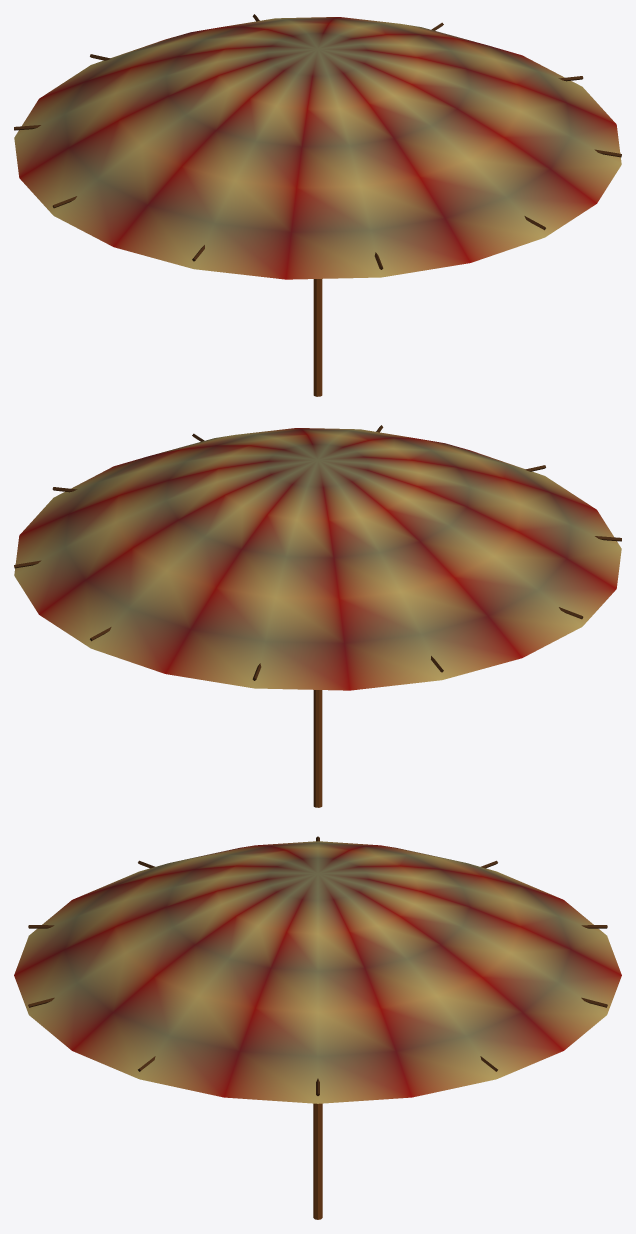
The model's file is hz-umbrella-oilpaper.glb.
3 renders of one model, top to bottom at view 1: azimuth 30°, elevation 25°; view 2: azimuth 150°, elevation 25°; view 3: azimuth 270°, elevation 25°, orthographic.
Visible parts, largest first — view 1: canopy__paper, shaft__bamboo, ribs__bamboo; view 2: canopy__paper, shaft__bamboo, ribs__bamboo; view 3: canopy__paper, shaft__bamboo, ribs__bamboo.
Boxes of the visible parts, x1,y1,x2,y2 form: canopy__paper: (14,17,621,279); shaft__bamboo: (313,279,322,396); ribs__bamboo: (14,14,621,269); canopy__paper: (14,428,621,690); shaft__bamboo: (313,690,322,807); ribs__bamboo: (14,425,621,680); canopy__paper: (14,841,621,1103); shaft__bamboo: (313,1103,322,1219); ribs__bamboo: (28,836,607,1095).
Bounding box in the file's own units: 1.84 × 1.15 × 1.84.
